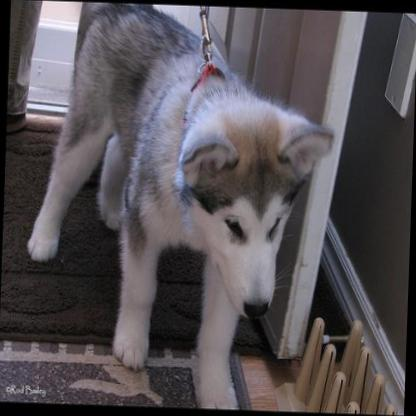malamute: (17, 0, 341, 416)
